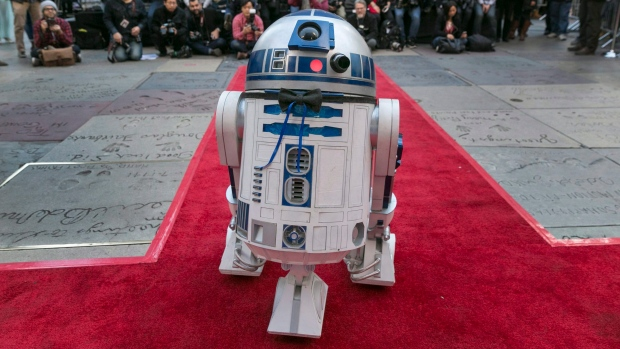r2d2: (215, 9, 405, 339)
